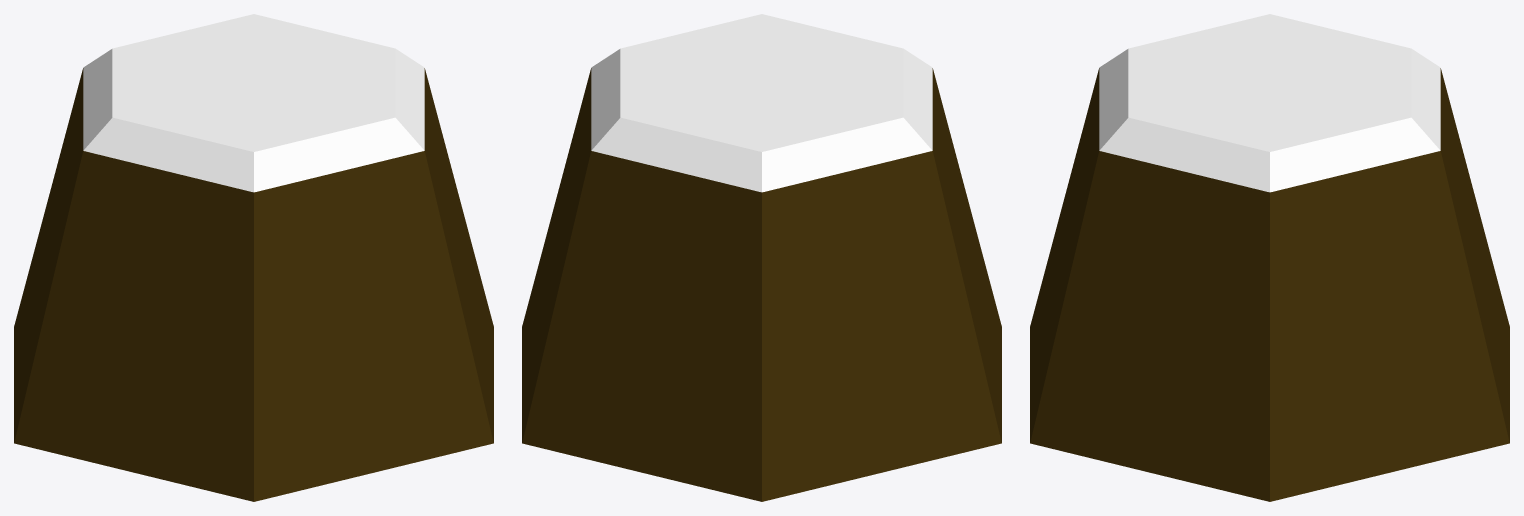
Rendered from Tree_Stump_Snow.fbx.
3 renders of one model, left to right at view 1: azimuth 30°, elevation 25°; view 2: azimuth 150°, elevation 25°; view 3: azimuth 270°, elevation 25°, orthographic.
Parts seen in each view (by area): view 1: Tree_Stump_Snow; view 2: Tree_Stump_Snow; view 3: Tree_Stump_Snow.
Boxes of the visible parts, x1,y1,x2,y2 form: Tree_Stump_Snow: (14, 14, 493, 501); Tree_Stump_Snow: (522, 14, 1001, 501); Tree_Stump_Snow: (1030, 14, 1509, 501).
Bounding box in the file's own units: 2 × 1.2 × 1.73.
